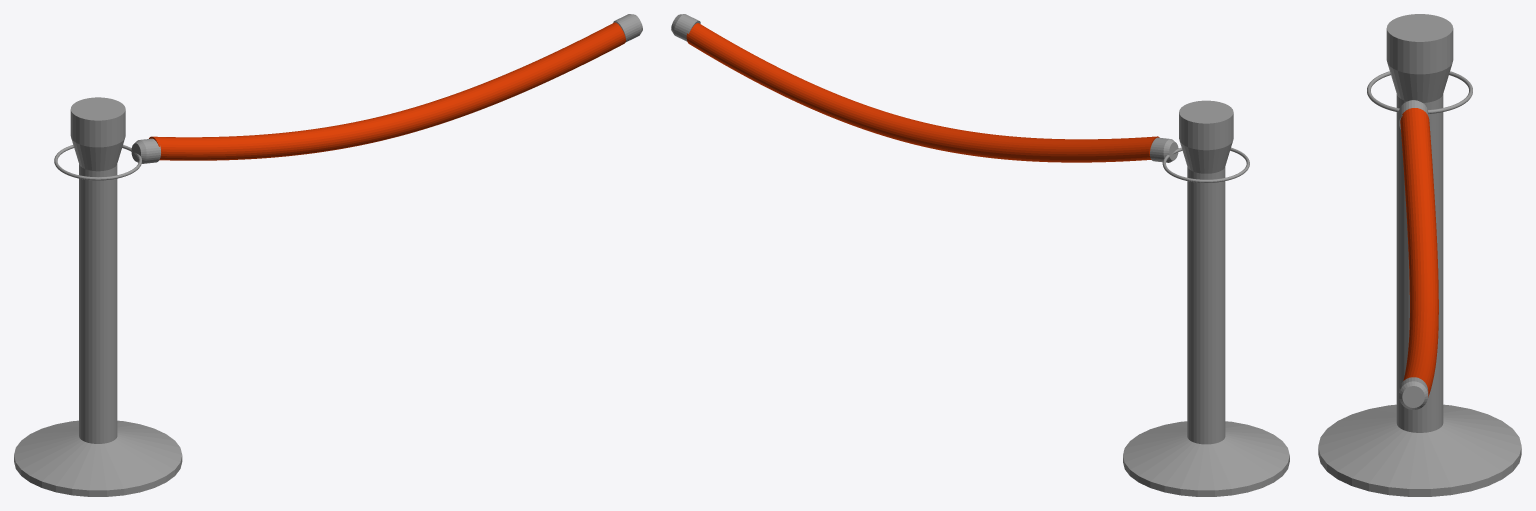
Rendered from RopeBarrierParcali.fbx.
3 renders of one model, left to right at view 1: azimuth 30°, elevation 25°; view 2: azimuth 150°, elevation 25°; view 3: azimuth 270°, elevation 25°, orthographic. The views are drawn at different scales.
Parts seen in each view (by area): view 1: direk, halat; view 2: direk, halat; view 3: direk, halat, halka.
Boxes of the visible parts, x1,y1,x2,y2 form: direk: [14, 97, 182, 496]; halat: [131, 14, 642, 163]; direk: [1123, 100, 1289, 496]; halat: [671, 14, 1178, 162]; direk: [1318, 14, 1521, 496]; halat: [1399, 100, 1438, 409]; halka: [1367, 71, 1472, 113].
Bounding box in the file's own units: 294 × 162 × 70.17.
